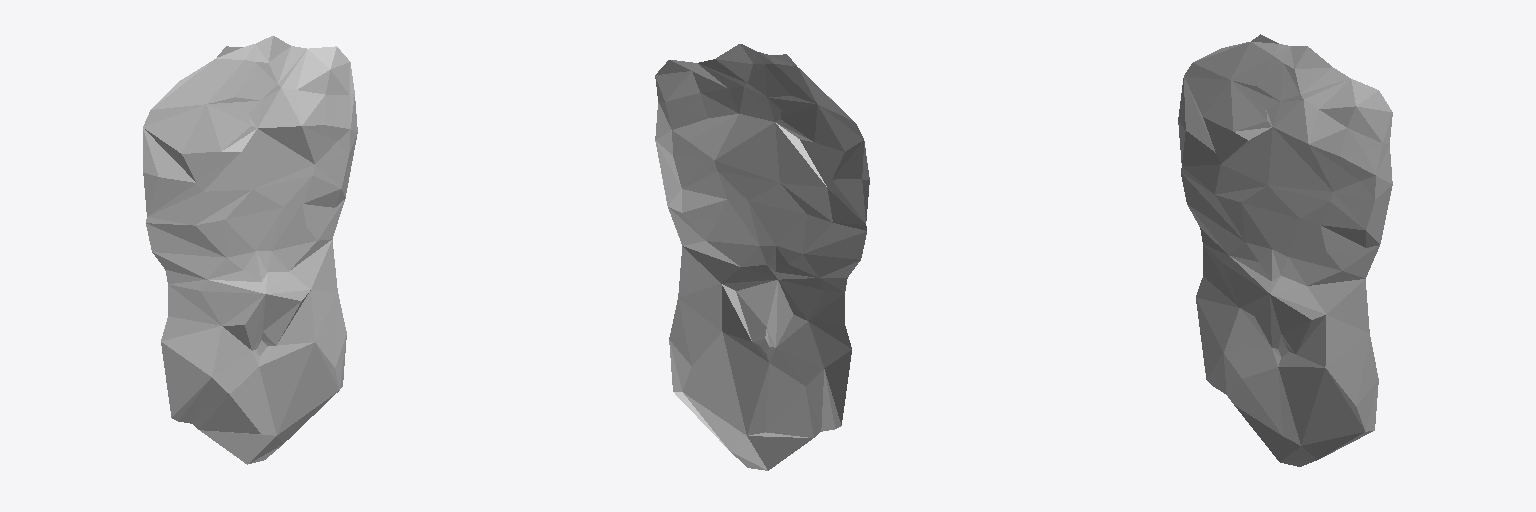
File: torso1.obj
The picture shows the model from 3 angles: view 1: azimuth 30°, elevation 25°; view 2: azimuth 150°, elevation 25°; view 3: azimuth 330°, elevation 25°; orthographic projection.
Visible parts, largest first — view 1: Torso; view 2: Torso; view 3: Torso.
Boxes of the visible parts, <box> form: Torso: <box>143,36,357,464</box>; Torso: <box>655,44,869,470</box>; Torso: <box>1178,34,1392,466</box>.
Bounding box in the file's own units: 0.5998 × 1.13 × 0.095.